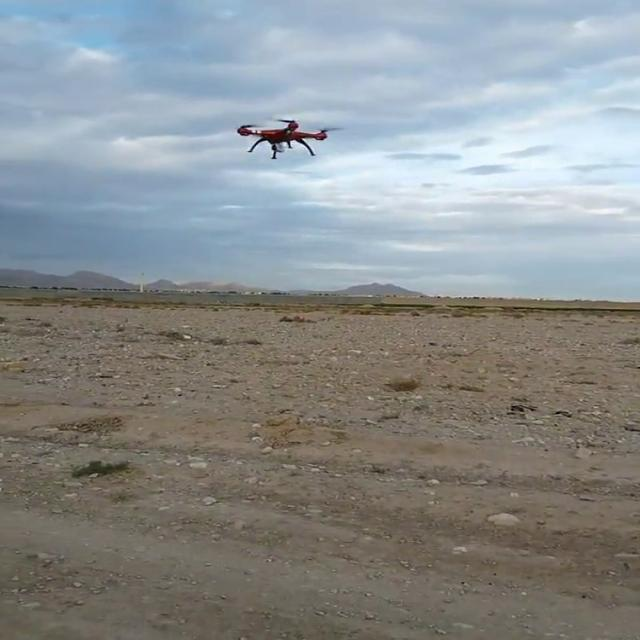drone: (227, 114, 347, 162)
